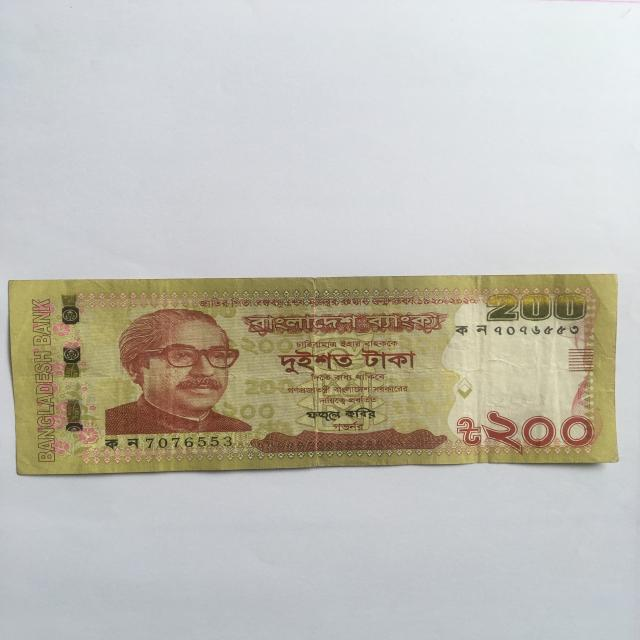Taka: (6, 269, 615, 461)
